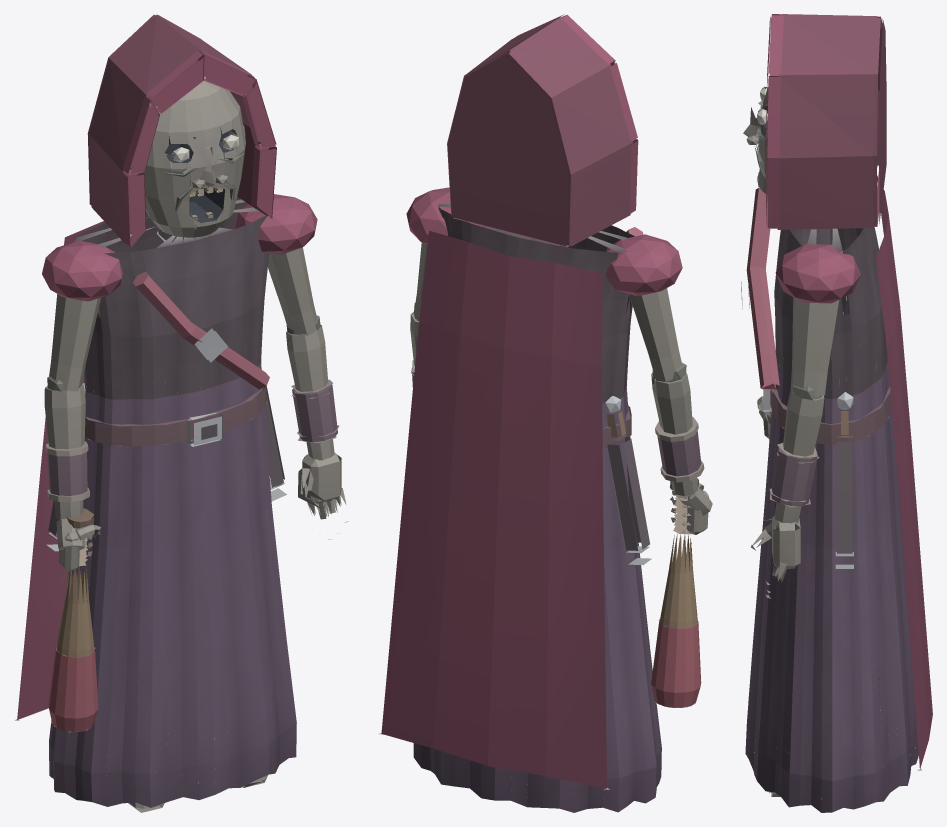
The model's file is GrannyAssassin.glb.
3 renders of one model, left to right at view 1: azimuth 30°, elevation 25°; view 2: azimuth 150°, elevation 25°; view 3: azimuth 270°, elevation 25°, orthographic.
Parts seen in each view (by area): view 1: Body, Head, ArmR, ArmL; view 2: Body, Head, ArmR, ArmL; view 3: Body, Head, ArmL.
Boxes of the visible parts, box(x1,y1,x2,y2) form: Body: box(14, 196, 296, 807); Head: box(87, 14, 276, 246); ArmR: box(42, 241, 122, 732); ArmL: box(235, 194, 347, 539); Body: box(379, 203, 661, 812); Head: box(447, 14, 638, 247); ArmR: box(606, 234, 712, 707); ArmL: box(406, 187, 485, 386); Body: box(741, 175, 932, 812); Head: box(743, 14, 886, 229); ArmL: box(750, 244, 860, 598).
Size of the model in its own units: 2.62 by 6.41 by 1.48.
